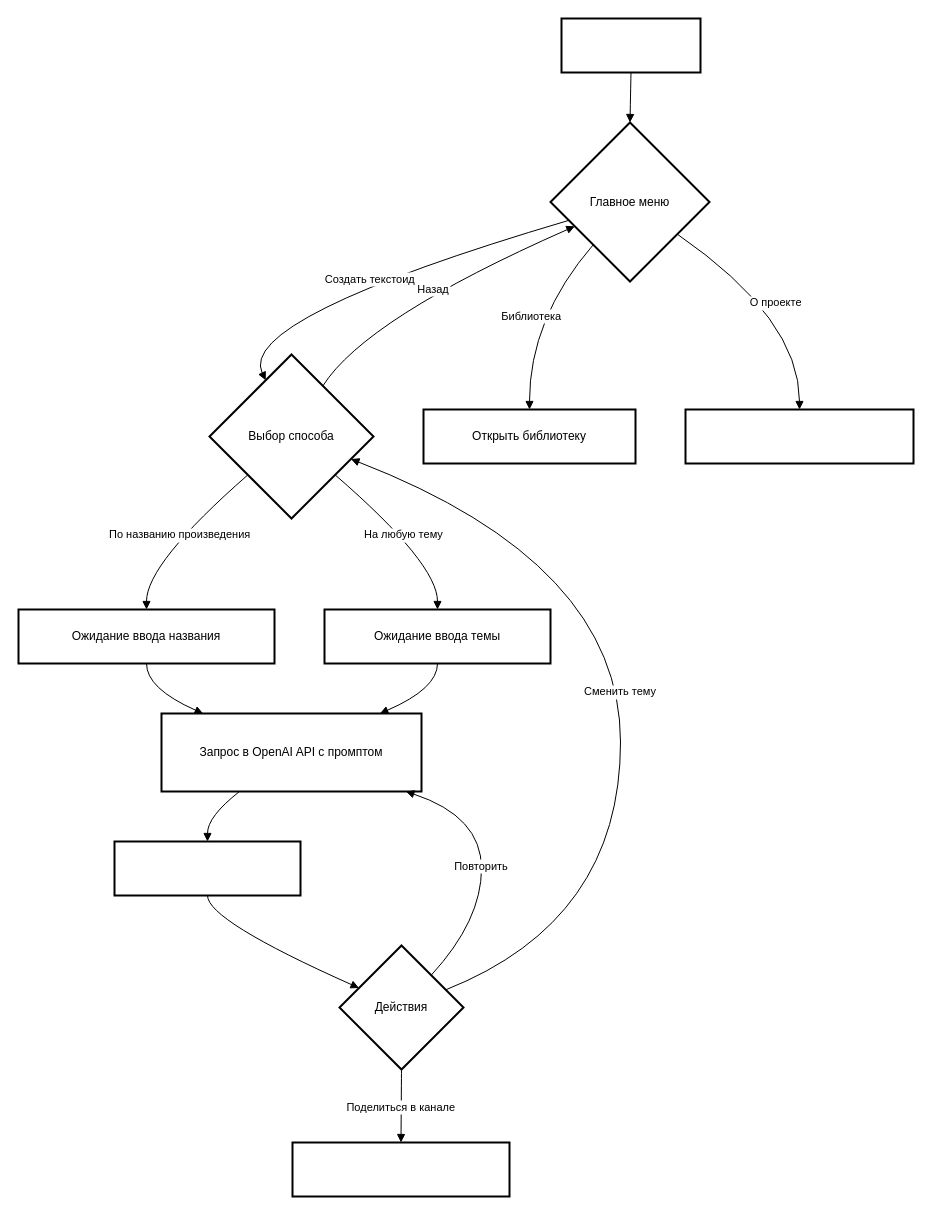
This 931x1214 diagram has some shape labels left out. The box of each missing label's shape, as (x1, y1, x2, y2) in pixels:
Вывод текстоида: (113, 840, 301, 896)
Показать информацию: (684, 408, 914, 464)
Публикация в канале: (291, 1141, 510, 1197)
Старт бота: (560, 17, 701, 73)
